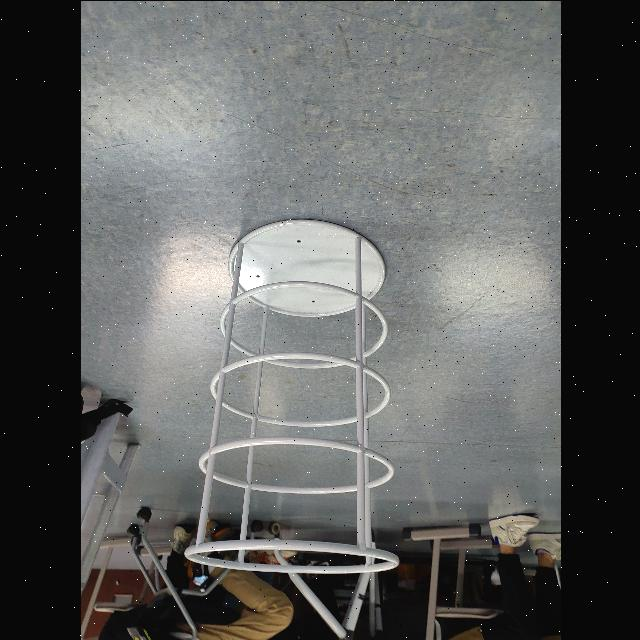S: (179, 212, 403, 576)
